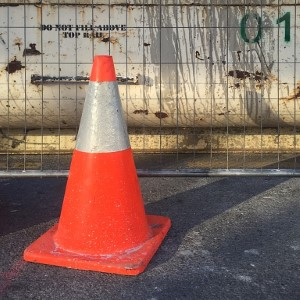traffic cone: (23, 55, 171, 275)
